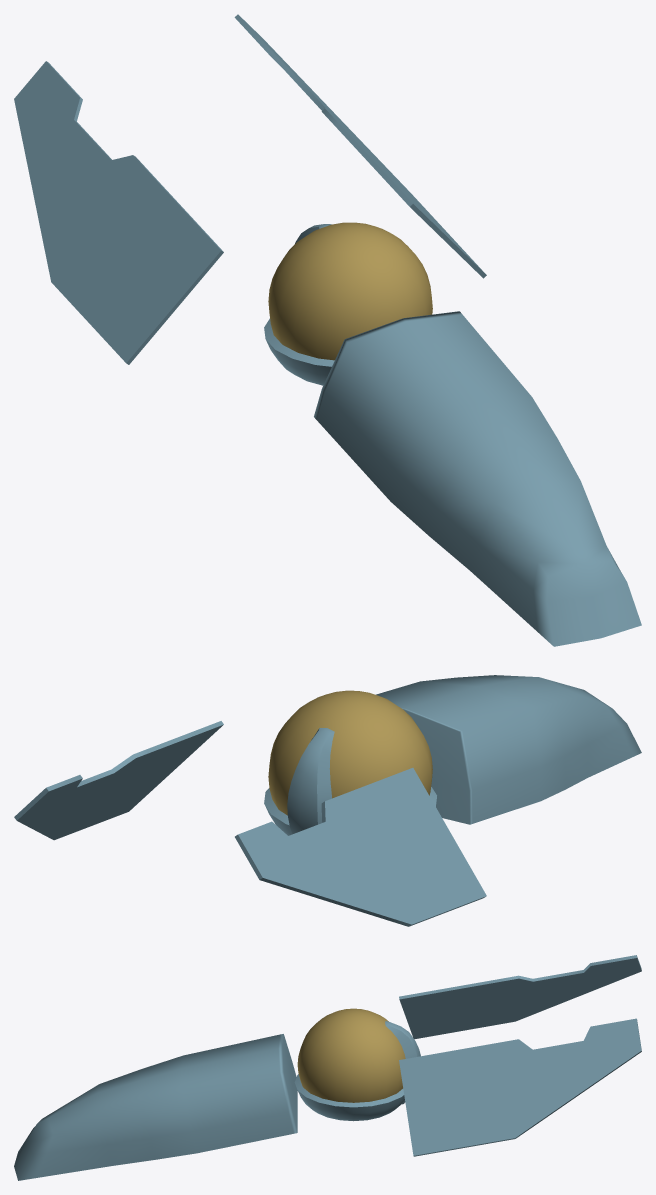
Rendered from skeletalmesh_Rush.fbx.
The picture shows the model from 3 angles, top to bottom: view 1: azimuth 30°, elevation 25°; view 2: azimuth 150°, elevation 25°; view 3: azimuth 270°, elevation 25°; orthographic projection. The views are drawn at different scales.
Visible parts, largest first — view 1: engine, lefte_wing, polySurface3, right_wing, harness_luck; view 2: engine, lefte_wing, polySurface3, right_wing, wing_supportColumn, harness_luck; view 3: engine, right_wing, lefte_wing, polySurface3, harness_luck, wing_supportColumn.
Part boxes in pixels (x1=…): engine: x1=314, y1=311, x2=641, y2=646; lefte_wing: x1=14, y1=61, x2=223, y2=364; polySurface3: x1=268, y1=222, x2=432, y2=360; right_wing: x1=234, y1=14, x2=486, y2=278; harness_luck: x1=264, y1=318, x2=334, y2=385; engine: x1=376, y1=675, x2=641, y2=824; lefte_wing: x1=235, y1=768, x2=486, y2=926; polySurface3: x1=268, y1=690, x2=432, y2=815; right_wing: x1=14, y1=721, x2=223, y2=840; wing_supportColumn: x1=287, y1=728, x2=334, y2=834; harness_luck: x1=264, y1=787, x2=436, y2=835; engine: x1=14, y1=1034, x2=297, y2=1180; right_wing: x1=399, y1=1018, x2=641, y2=1156; lefte_wing: x1=399, y1=955, x2=641, y2=1039; polySurface3: x1=297, y1=1008, x2=405, y2=1102; harness_luck: x1=294, y1=1074, x2=404, y2=1121; wing_supportColumn: x1=385, y1=1021, x2=420, y2=1104.
Size of the model in its own units: 99.88 by 70.06 by 222.
